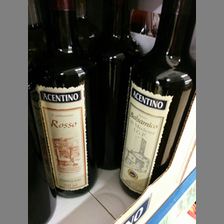vinegar: (119, 1, 197, 201), (31, 1, 97, 196)
